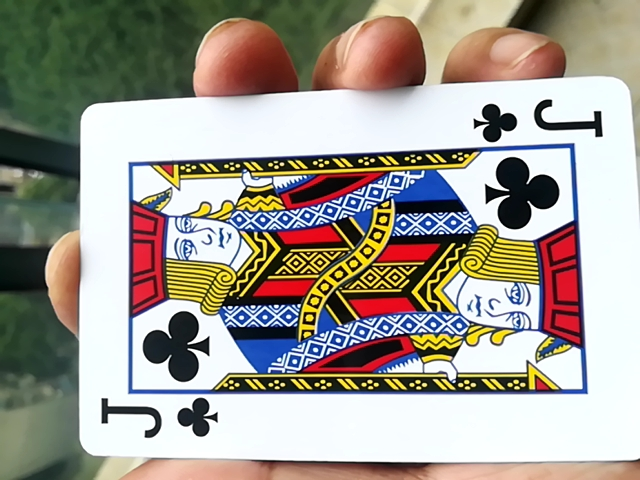mh j: (59, 93, 630, 470)
